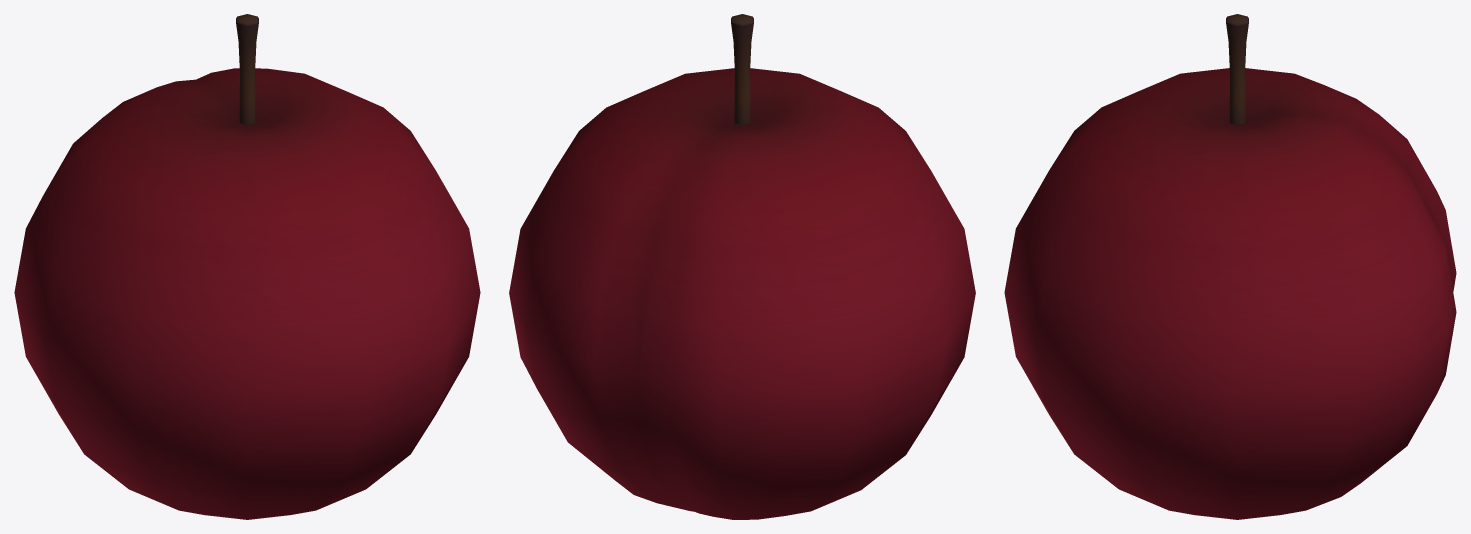
Rendered from Plum.fbx.
The picture shows the model from 3 angles, left to right: view 1: azimuth 30°, elevation 25°; view 2: azimuth 150°, elevation 25°; view 3: azimuth 270°, elevation 25°; orthographic projection.
Visible parts, largest first — view 1: Plum_Whole; view 2: Plum_Whole; view 3: Plum_Whole.
Boxes of the visible parts, <box> form: Plum_Whole: <box>14,14,480,519</box>; Plum_Whole: <box>509,14,975,519</box>; Plum_Whole: <box>1004,14,1456,519</box>.
Bounding box in the file's own units: 1.18 × 1.33 × 1.15.
